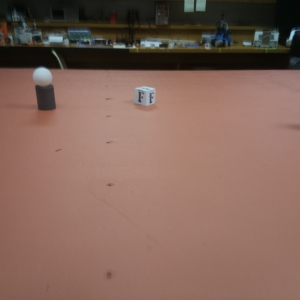blockF: (135, 85, 155, 106)
obstacle: (31, 66, 55, 109)
